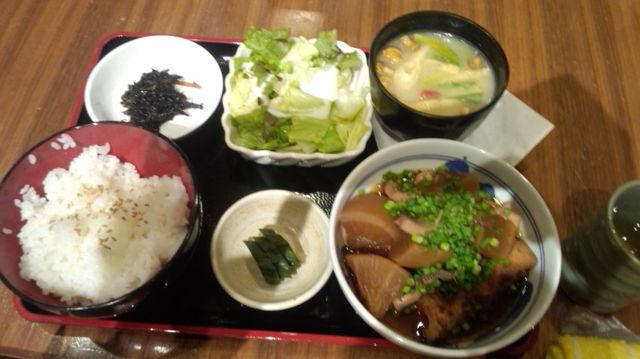plate: (84, 35, 222, 138)
rice: (15, 145, 188, 303)
